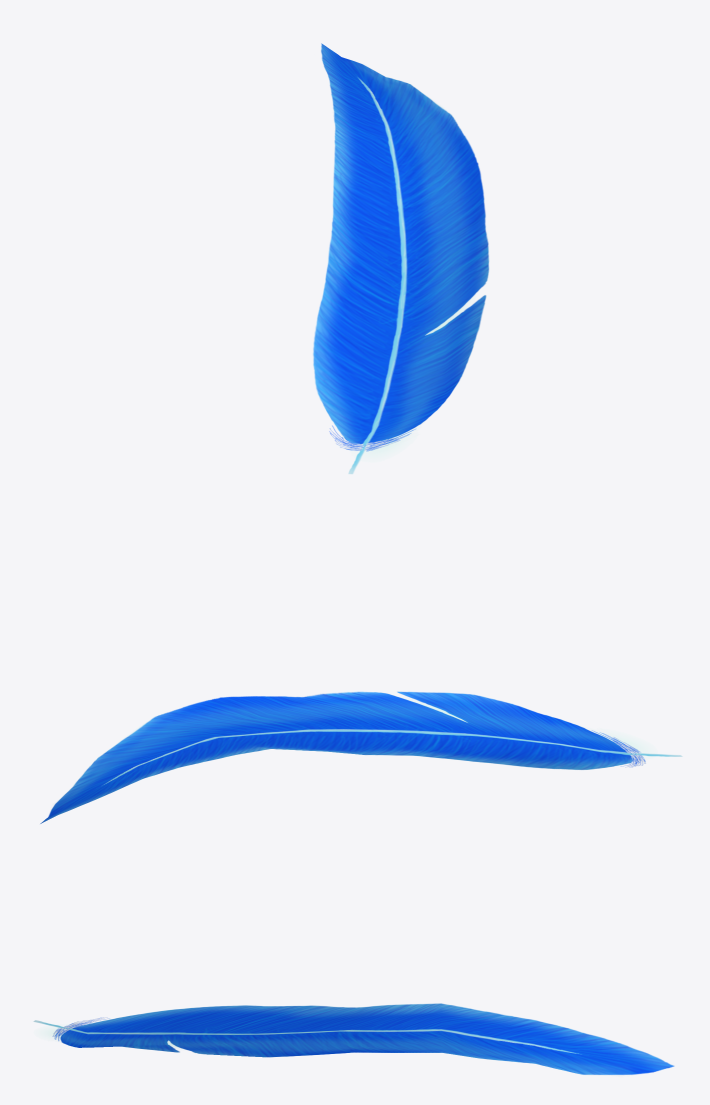
Rendered from special.gltf.
3 renders of one model, top to bottom at view 1: azimuth 30°, elevation 25°; view 2: azimuth 150°, elevation 25°; view 3: azimuth 270°, elevation 25°, orthographic. The views are drawn at different scales.
Parts seen in each view (by area): view 1: favpng_cobalt-blue-feather; view 2: favpng_cobalt-blue-feather; view 3: favpng_cobalt-blue-feather.
Part boxes in pixels (box(x1,y1,x2,y2)): favpng_cobalt-blue-feather: box(313, 43, 489, 474); favpng_cobalt-blue-feather: box(40, 691, 682, 823); favpng_cobalt-blue-feather: box(33, 1003, 674, 1074).
Size of the model in its own units: 1.1 by 0.4888 by 1.95.
1 material, 1 textured.
